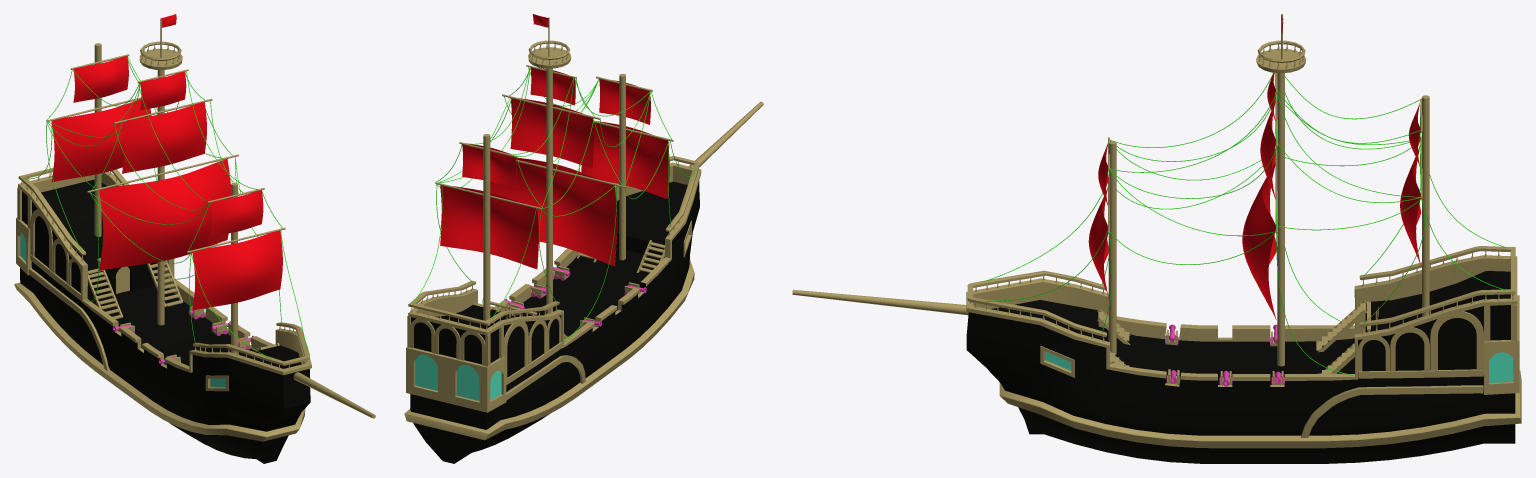
The model's file is crewShip.fbx.
3 renders of one model, left to right at view 1: azimuth 30°, elevation 25°; view 2: azimuth 150°, elevation 25°; view 3: azimuth 270°, elevation 25°, orthographic. The views are drawn at different scales.
Visible parts, largest first — view 1: Ship Base.001, Ship Base.002; view 2: Ship Base.001, Ship Base.002; view 3: Ship Base.001, Ship Base.002.
Boxes of the visible parts, x1=… form: Ship Base.001: x1=14, y1=14, x2=375, y2=463; Ship Base.002: x1=23, y1=55, x2=307, y2=359; Ship Base.001: x1=404, y1=14, x2=763, y2=463; Ship Base.002: x1=414, y1=67, x2=696, y2=342; Ship Base.001: x1=792, y1=14, x2=1521, y2=463; Ship Base.002: x1=983, y1=73, x2=1507, y2=375.
Bounding box in the file's own units: 1717 × 4234 × 6257.
